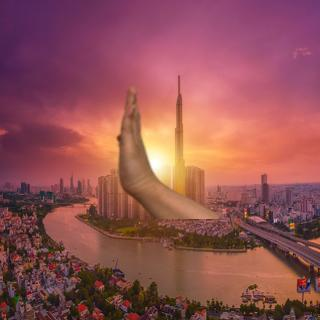RIGHT: (113, 83, 158, 200)
